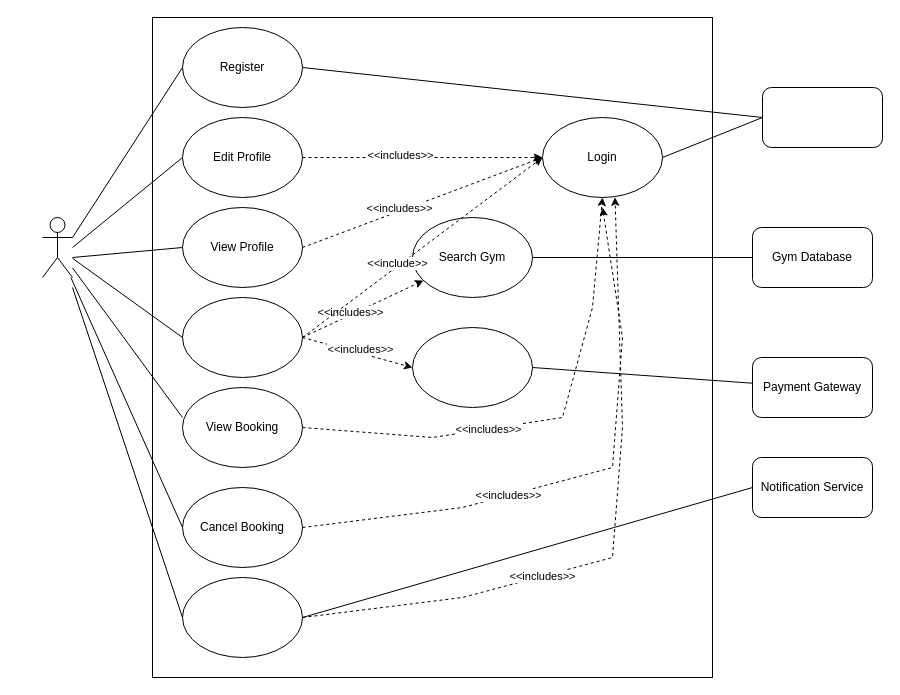
This 900x695 diagram has some shape labels left out. Each missing label, with the box of its shape:
Book Gym Slot: (182, 296, 302, 378)
Gym Customer: (42, 216, 72, 278)
Make Payment: (412, 326, 532, 408)
Receive Notification: (182, 576, 302, 658)
User Credential Database: (762, 86, 882, 148)
